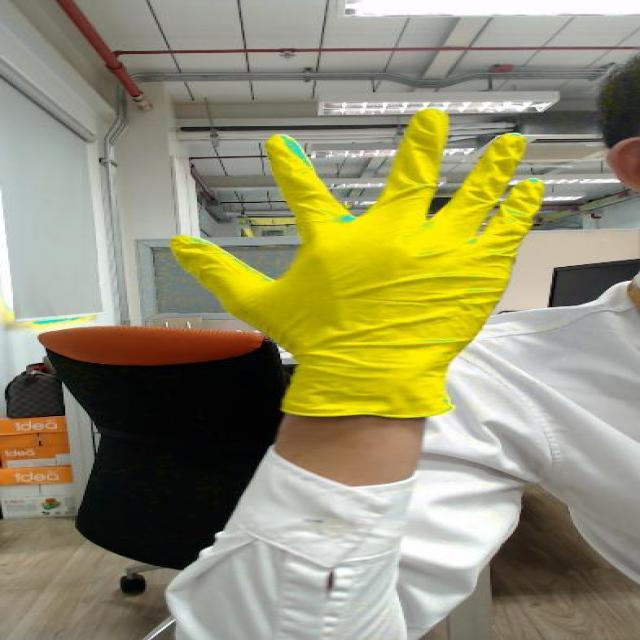gloved_hand: (130, 82, 604, 336)
